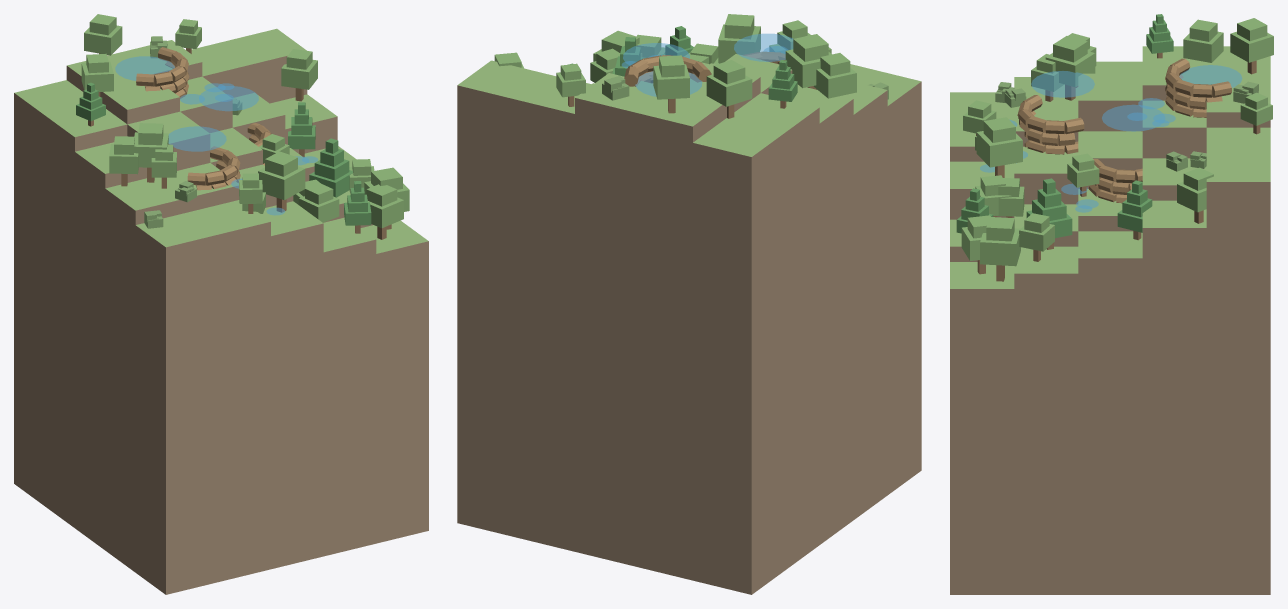
The model's file is block_20_leakingdam_100.glb.
The picture shows the model from 3 angles, left to right: view 1: azimuth 30°, elevation 25°; view 2: azimuth 150°, elevation 25°; view 3: azimuth 270°, elevation 25°; orthographic projection. The views are drawn at different scales.
Visible parts, largest first — view 1: Patch_UpperRight_b20_LD, LD_Water_20, LD_Dam_20, LD_Veg_20_020, LD_Veg_20_001, LD_Veg_20_010, LD_Veg_20_009, LD_Veg_20_014, LD_Veg_20_023, LD_Veg_20_008, LD_Veg_20_013, LD_Veg_20_022 (+8 smaller); view 2: Patch_UpperRight_b20_LD, LD_Water_20, LD_Veg_20_022, LD_Veg_20_020, LD_Veg_20_023, LD_Veg_20_014, LD_Dam_20, LD_Veg_20_013, LD_Veg_20_004, LD_Veg_20_024, LD_Veg_20_000, LD_Veg_20_001 (+1 smaller); view 3: Patch_UpperRight_b20_LD, LD_Dam_20, LD_Water_20, LD_Veg_20_020, LD_Veg_20_005, LD_Veg_20_023, LD_Veg_20_014, LD_Veg_20_022, LD_Veg_20_001, LD_Veg_20_009, LD_Veg_20_018, LD_Veg_20_000 (+9 smaller).
Part boxes in pixels (x1,y1,x2,y2): Patch_UpperRight_b20_LD: (14, 28, 428, 594); LD_Water_20: (115, 56, 317, 215); LD_Dam_20: (136, 47, 271, 190); LD_Veg_20_020: (258, 151, 305, 212); LD_Veg_20_001: (309, 138, 352, 197); LD_Veg_20_010: (366, 184, 403, 239); LD_Veg_20_009: (281, 49, 317, 101); LD_Veg_20_014: (84, 14, 122, 55); LD_Veg_20_023: (134, 123, 168, 182); LD_Veg_20_008: (298, 183, 339, 222); LD_Veg_20_013: (109, 136, 138, 186); LD_Veg_20_022: (81, 53, 113, 96); Patch_UpperRight_b20_LD: (457, 54, 921, 594); LD_Water_20: (622, 33, 793, 96); LD_Veg_20_022: (706, 60, 752, 118); LD_Veg_20_020: (718, 14, 760, 62); LD_Veg_20_023: (785, 34, 831, 89); LD_Veg_20_014: (653, 55, 689, 113); LD_Dam_20: (624, 51, 785, 86); LD_Veg_20_013: (813, 53, 856, 98); LD_Veg_20_004: (768, 60, 797, 108); LD_Veg_20_024: (556, 63, 585, 106); LD_Veg_20_000: (590, 48, 619, 82); LD_Veg_20_001: (612, 37, 644, 76); Patch_UpperRight_b20_LD: (950, 46, 1270, 594); LD_Dam_20: (1017, 58, 1231, 203); LD_Water_20: (980, 65, 1242, 212); LD_Veg_20_020: (976, 117, 1022, 177); LD_Veg_20_005: (980, 217, 1020, 281); LD_Veg_20_023: (1045, 36, 1095, 100); LD_Veg_20_014: (1230, 18, 1273, 74); LD_Veg_20_022: (1183, 19, 1223, 62); LD_Veg_20_001: (1026, 178, 1072, 249); LD_Veg_20_009: (1177, 167, 1213, 223); LD_Veg_20_018: (1117, 180, 1152, 240); LD_Veg_20_000: (1019, 213, 1054, 261).
Size of the model in its own units: 9.73 by 15.57 by 9.59.
